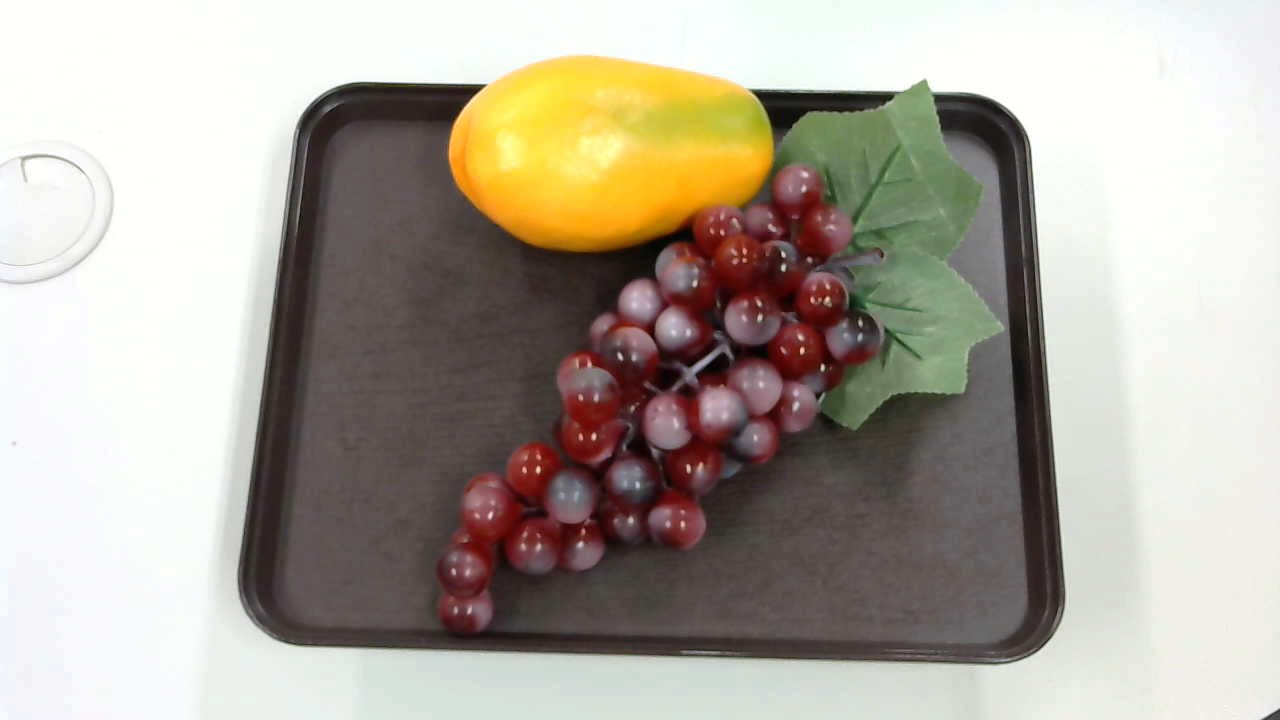grape: (434, 88, 1010, 634)
papya: (449, 58, 774, 254)
